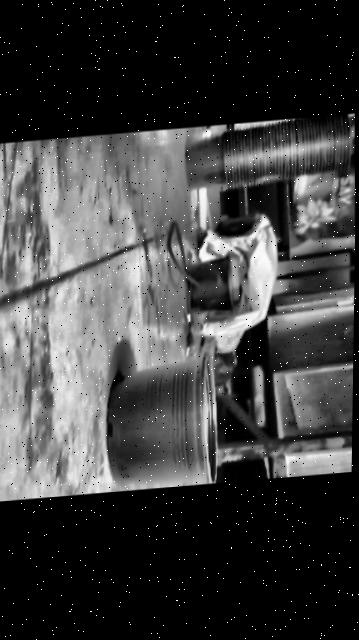pot: (105, 349, 220, 493), (186, 254, 236, 315)
